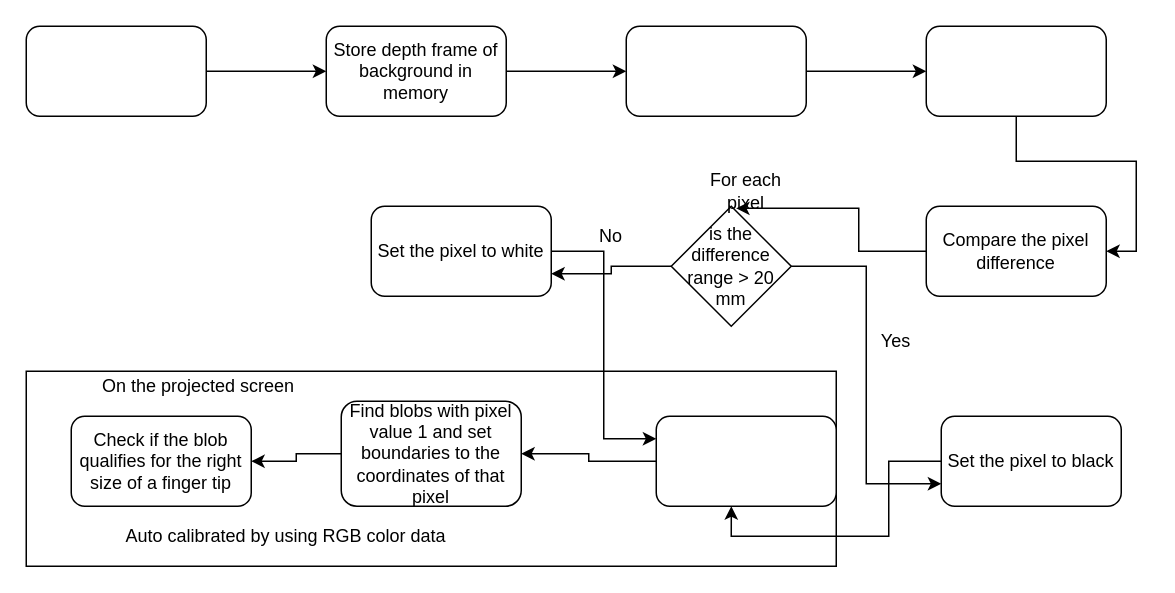
The diagram is 1175 pixels wide and 593 high, and some of its shapes have lost their labels. The shapes that lost their labels are listed below. From the top down, each one's centre as x and y in pixels, then its label:
At pixel 115 70: "Capture RGB/Depth Stream".
At pixel 715 70: "Get next live incoming frame".
At pixel 1015 70: "Background subtract the frame with the background frame".
At pixel 745 460: "Filter out pixels that are too small to be finger touches".
